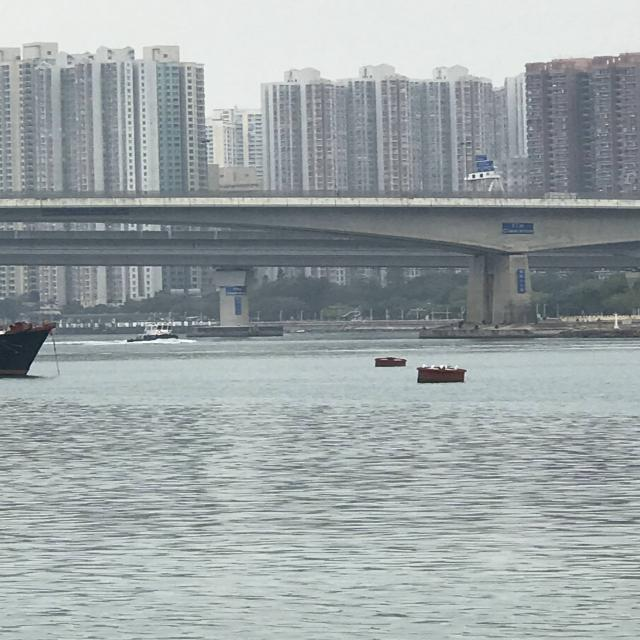ship: (0, 318, 66, 383), (120, 320, 182, 346)
